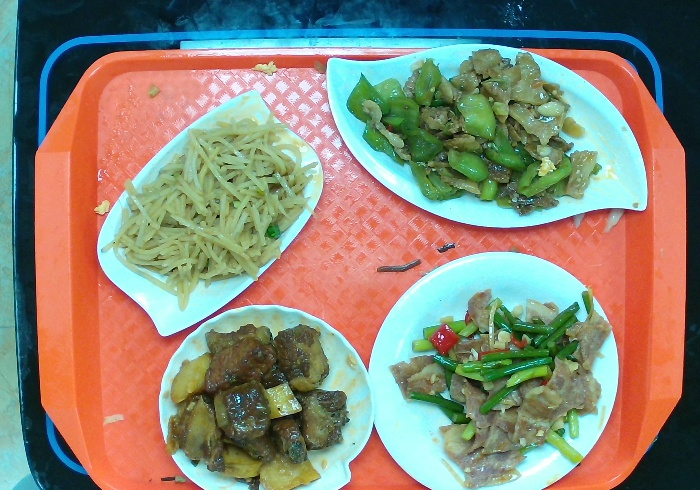RJxy-Bei_Ke_Wan: (154, 294, 374, 487)
RJxy-Jian_Jiao_Fang_Die: (88, 88, 329, 346)
RJxy-Jian_Jiao_Pan: (322, 38, 654, 235)
RJxy-Yuan_Pan: (357, 247, 628, 490)
